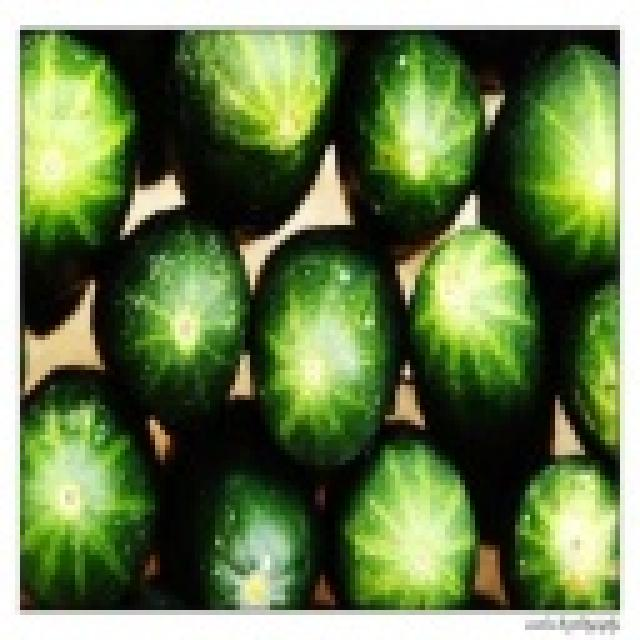Cucumber: (14, 27, 130, 326), (93, 210, 249, 426), (254, 227, 396, 464), (480, 38, 620, 277), (21, 361, 161, 600), (166, 29, 336, 216), (337, 31, 483, 243), (412, 229, 546, 458), (166, 438, 320, 610)
